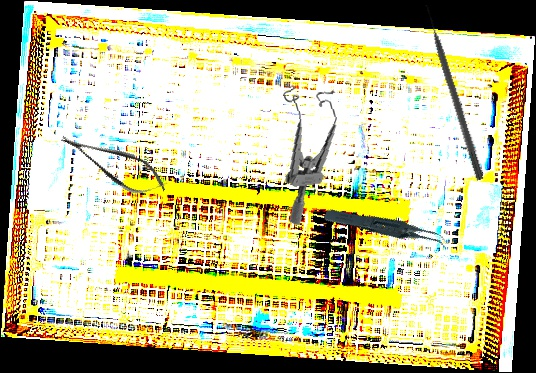Micro Scissor: (54, 121, 173, 206)
Pusher: (422, 3, 487, 181)
Speculum: (272, 76, 351, 226)
Tissue Forceps: (323, 185, 450, 274)
